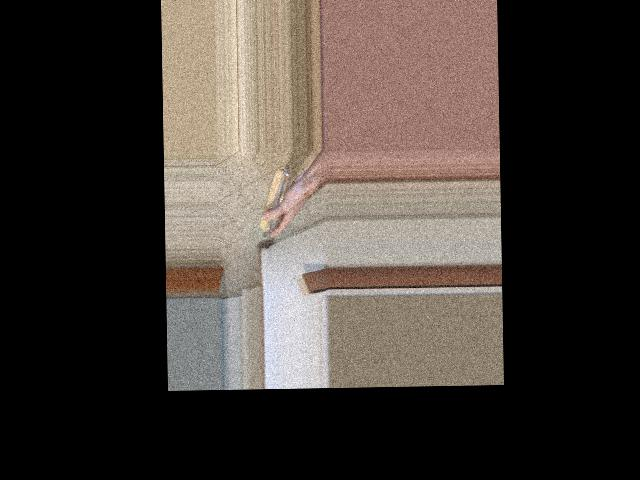cheese: (250, 175, 308, 241)
